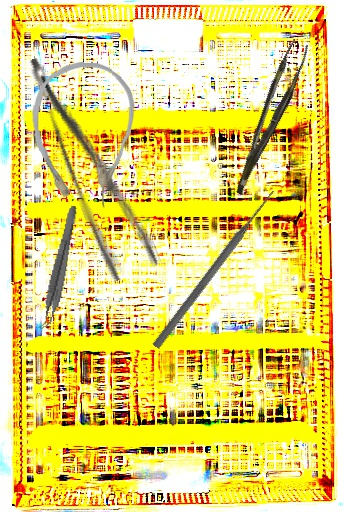Cannula: (29, 60, 136, 210)
Dressing Forceps: (24, 42, 163, 284)
Pusher: (151, 187, 278, 351)
Tissue Forceps: (217, 38, 318, 195), (38, 203, 79, 332)
